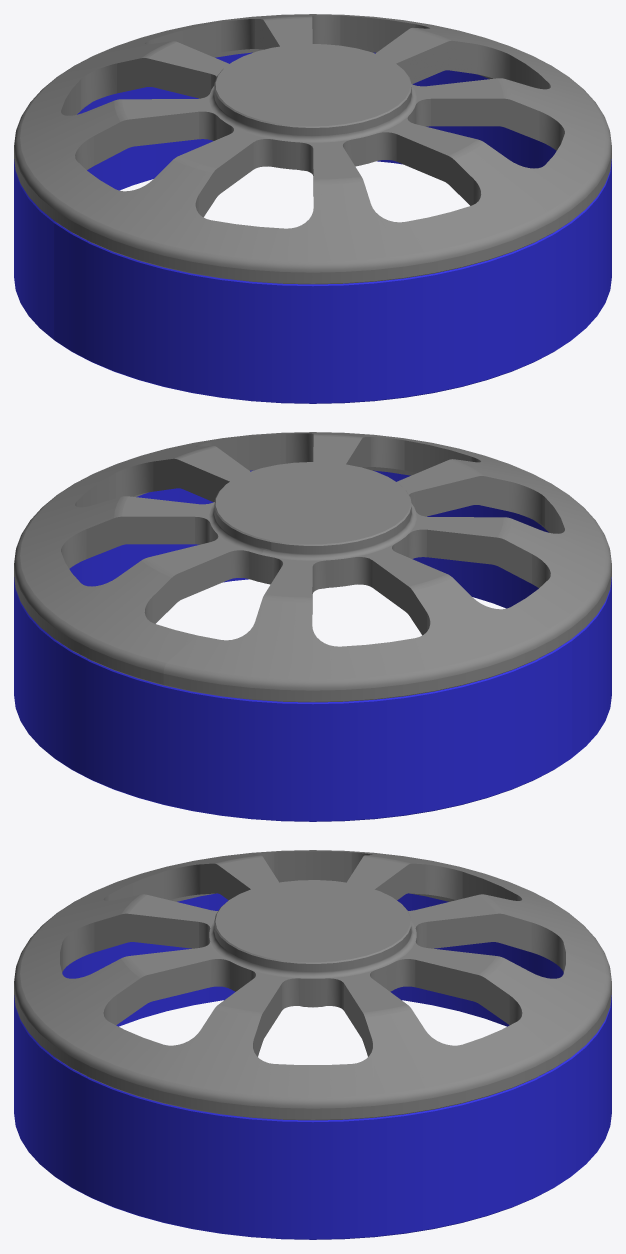
The model's file is 5010Bell.dae.
3 renders of one model, top to bottom at view 1: azimuth 30°, elevation 25°; view 2: azimuth 150°, elevation 25°; view 3: azimuth 270°, elevation 25°, orthographic.
Visible parts, largest first — view 1: BellHead.001, Bellside; view 2: BellHead.001, Bellside; view 3: BellHead.001, Bellside.
Part boxes in pixels (bbox=[...]): BellHead.001: bbox=[14, 14, 611, 284]; Bellside: bbox=[14, 52, 611, 403]; BellHead.001: bbox=[14, 432, 611, 702]; Bellside: bbox=[14, 470, 611, 821]; BellHead.001: bbox=[14, 850, 611, 1120]; Bellside: bbox=[14, 893, 611, 1239].
Size of the model in its own units: 0.059 by 0.059 by 0.021.
